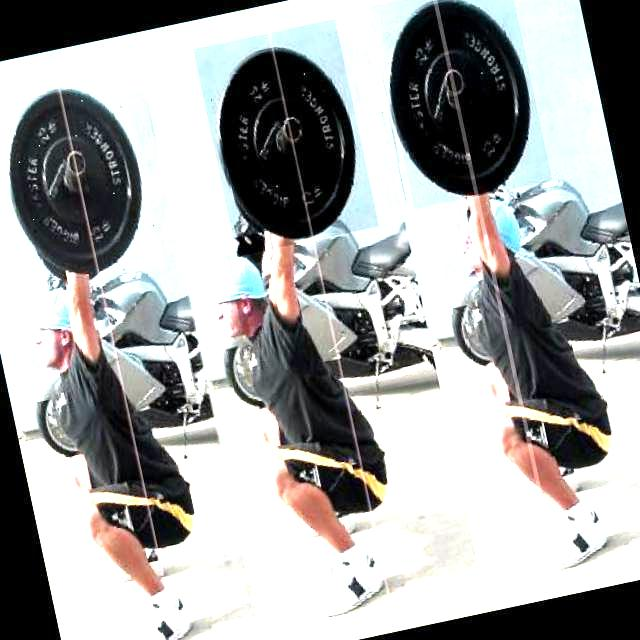barbell: (193, 18, 380, 257), (372, 1, 552, 210), (1, 65, 163, 297)
